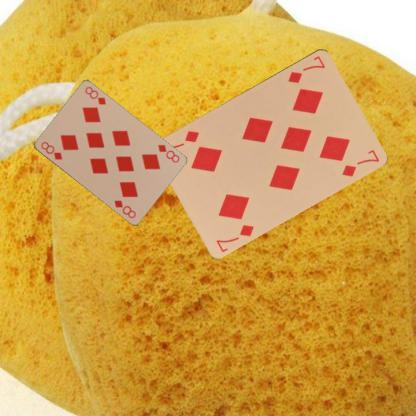7d: (214, 221, 255, 253), (286, 52, 326, 84)
8d: (38, 139, 63, 161), (155, 142, 180, 164)
